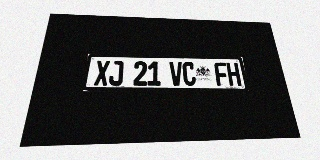1: (147, 61, 161, 86)
2: (133, 61, 147, 86)
C: (182, 62, 196, 86)
F: (214, 62, 229, 86)
H: (226, 62, 242, 86)
J: (108, 61, 124, 86)
V: (169, 62, 183, 86)
X: (94, 60, 110, 86)
